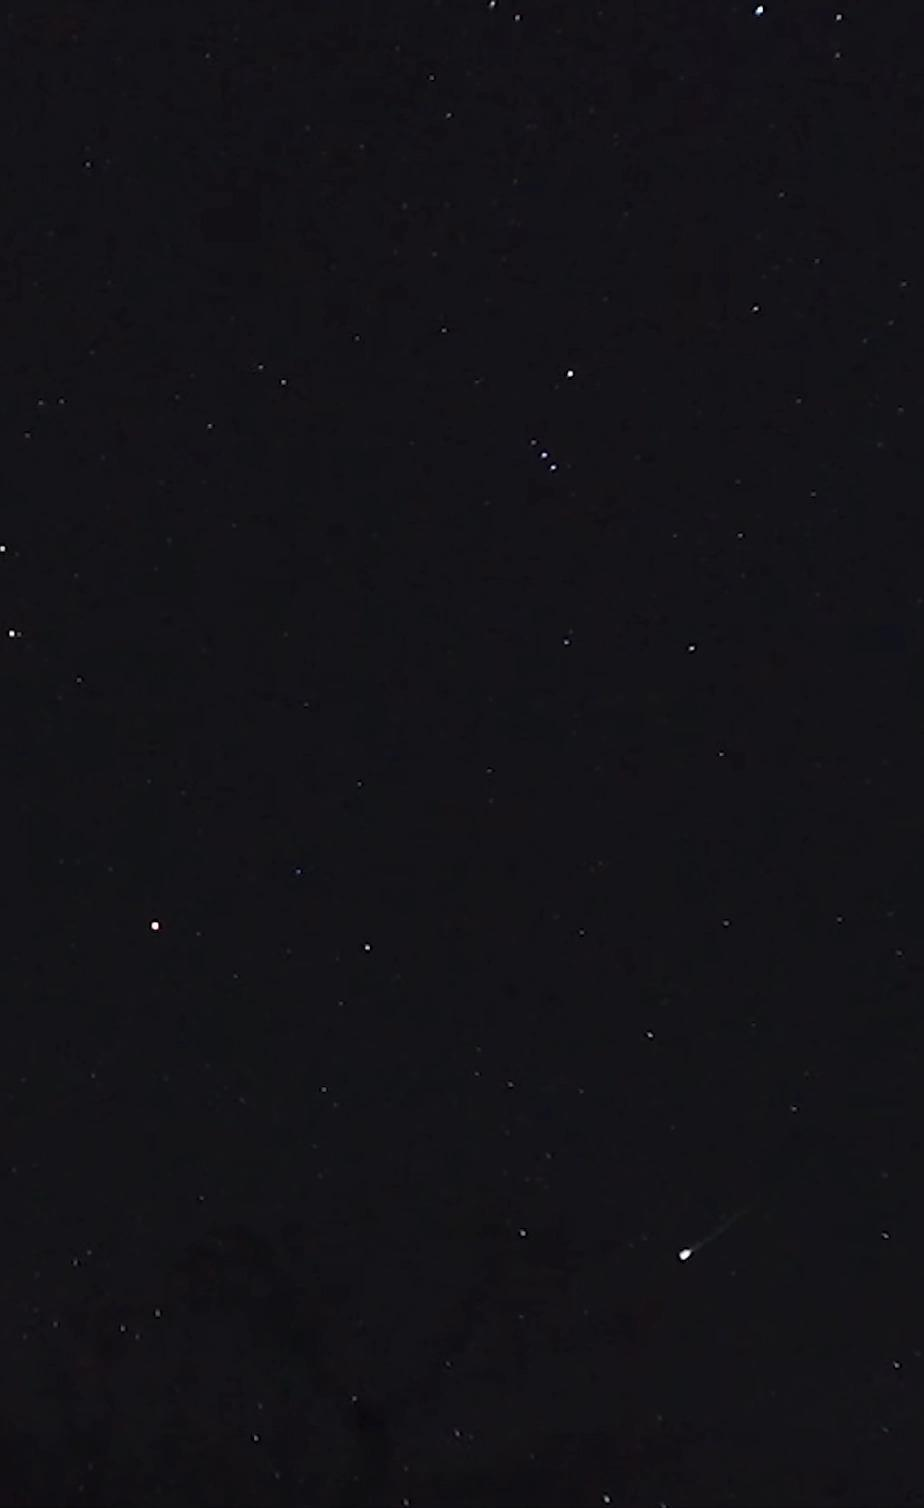meteorite: (660, 1186, 776, 1279)
